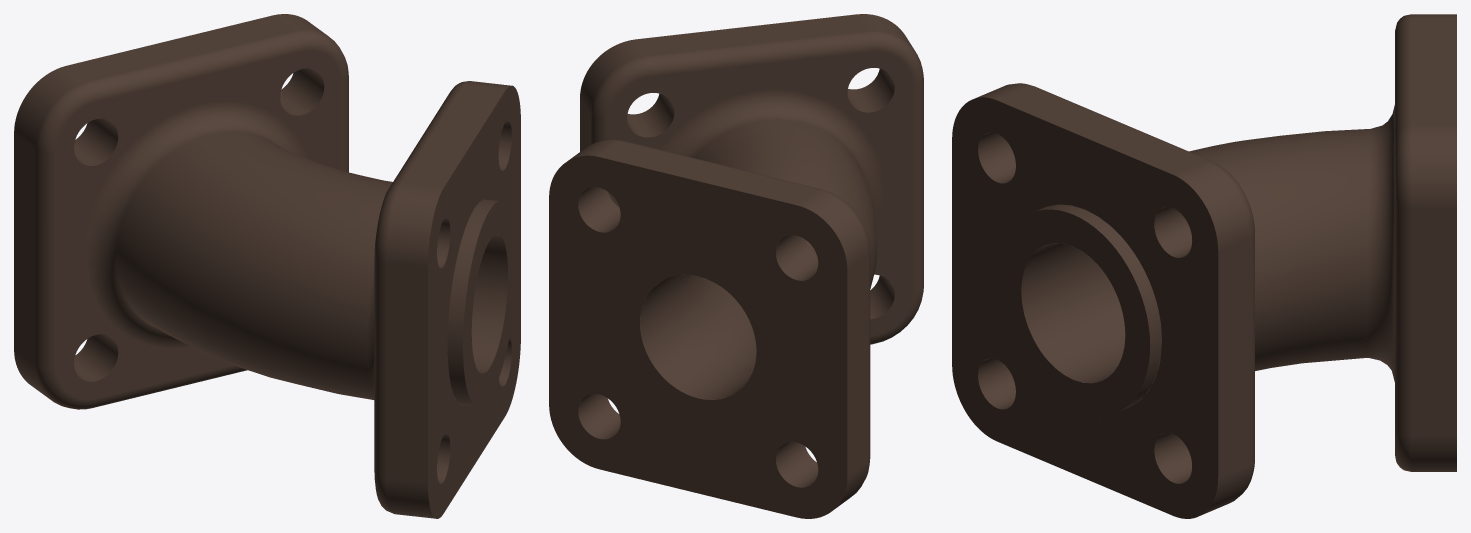
3 renders of one model, left to right at view 1: azimuth 30°, elevation 25°; view 2: azimuth 150°, elevation 25°; view 3: azimuth 270°, elevation 25°, orthographic. The views are drawn at different scales.
Visible parts, largest first — view 1: Part8.IGS (×32); view 2: Part8.IGS (×30); view 3: Part8.IGS (×28).
Boxes of the visible parts, bbox=[...] form: Part8.IGS (×32): bbox=[14, 15, 520, 518]; Part8.IGS (×30): bbox=[549, 14, 923, 518]; Part8.IGS (×28): bbox=[952, 20, 1456, 518].
Bounding box in the file's own units: 0.2841 × 0.225 × 0.3018.
